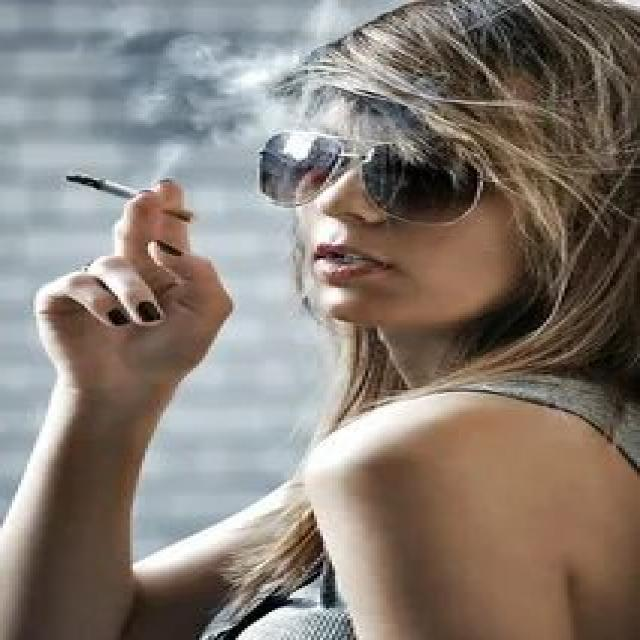smoke: (58, 168, 200, 228)
